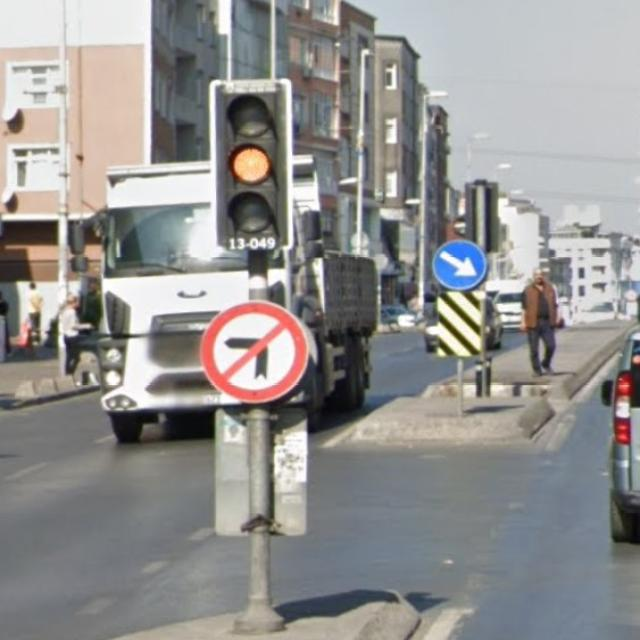sari: (209, 79, 292, 248)
soladonulmez: (200, 300, 308, 400)
